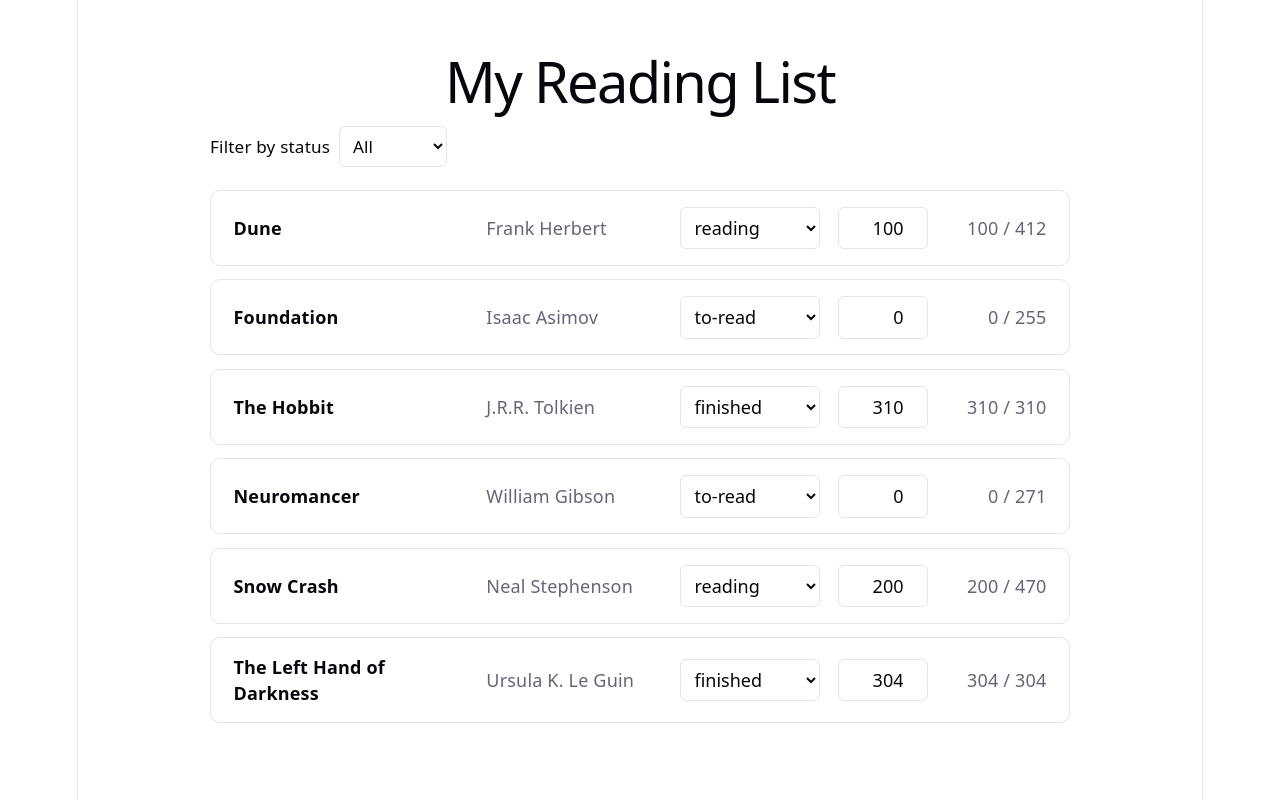
Test: selecting "All" after filtering shows every book again
Select "Finished" in the dropdown labelled "Filter by status": [393, 147] box [339,126,447,168]
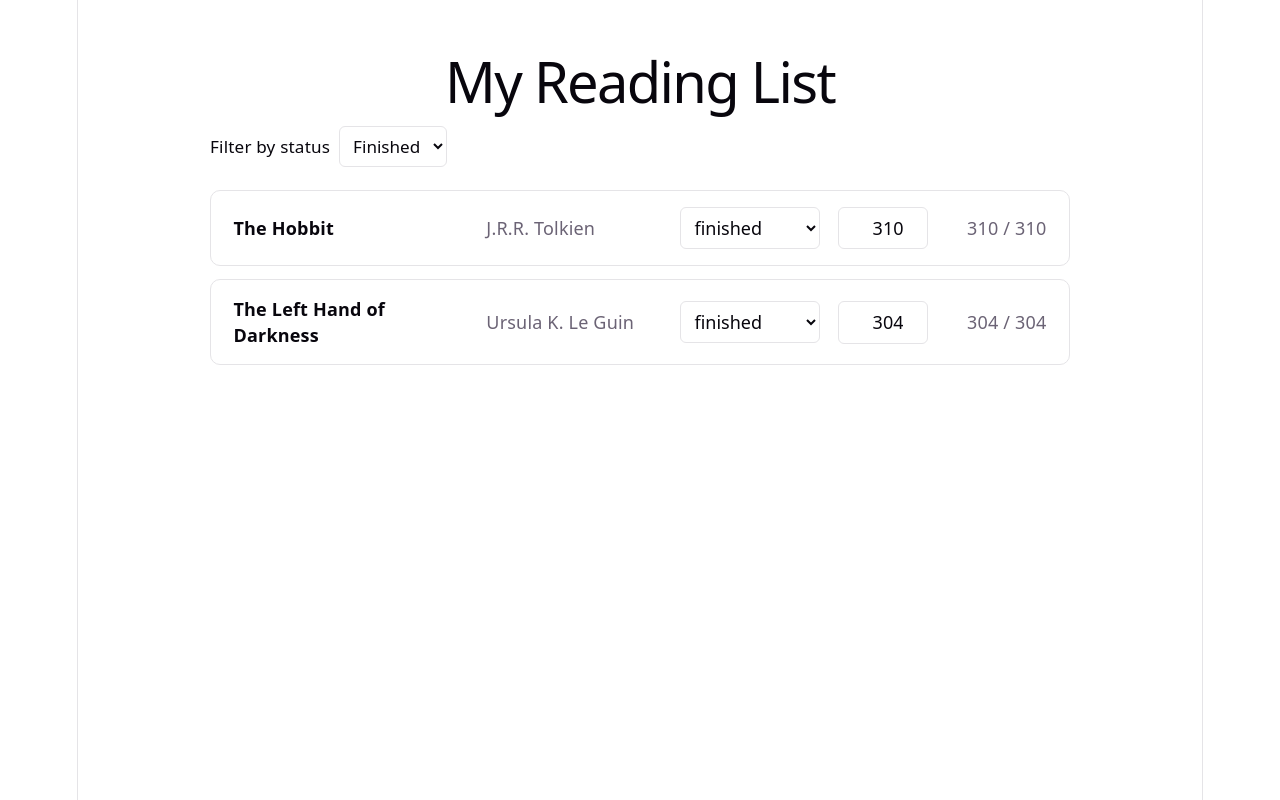
Select "All" in the dropdown labelled "Filter by status": [393, 147] box [339,126,447,168]
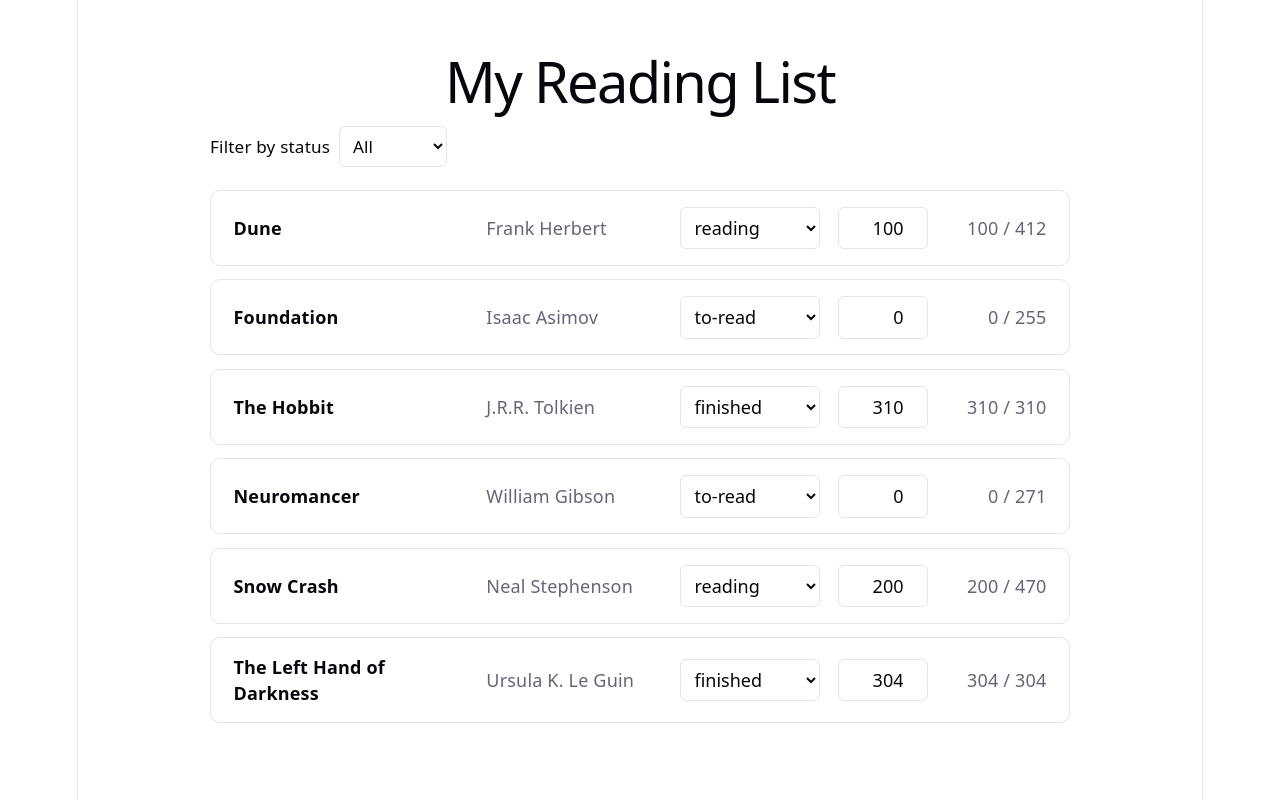
Now the text "Dune" is shown, box [234,216,282,240]
Now the text "Foundation" is shown, box [234,305,338,329]
Now the text "Neuromancer" is shown, box [234,484,360,508]
